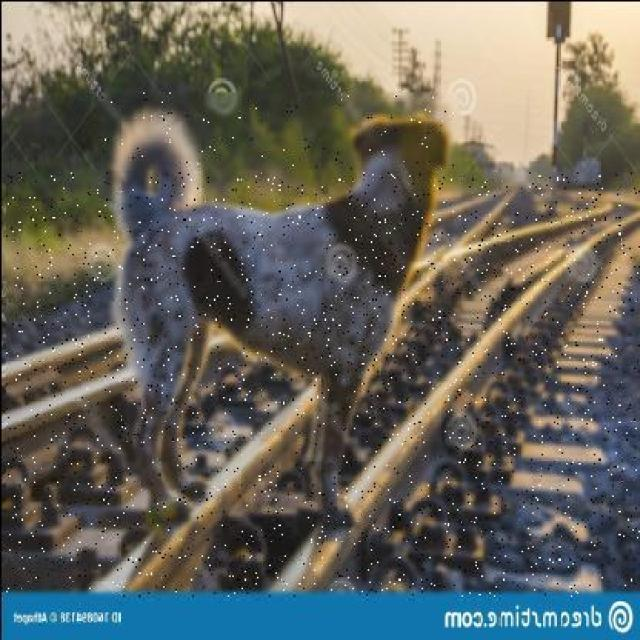rail: (6, 172, 640, 596)
